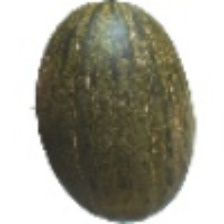honeydew: (8, 32, 186, 224)
